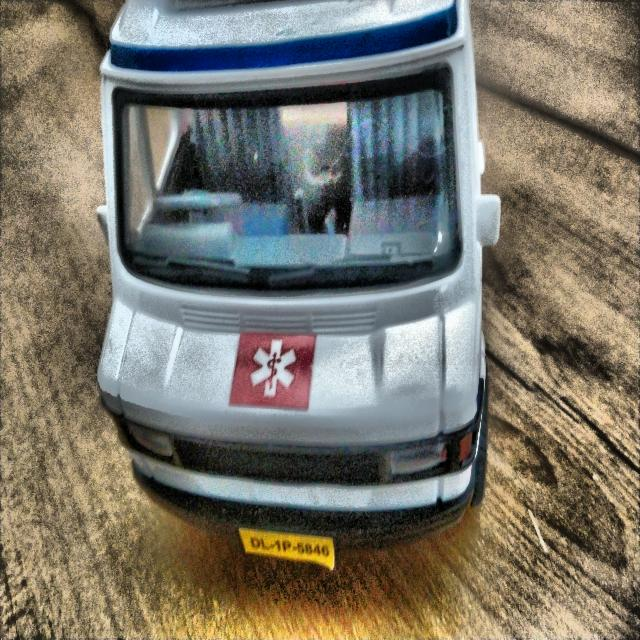Ambulance: (90, 0, 518, 640)
